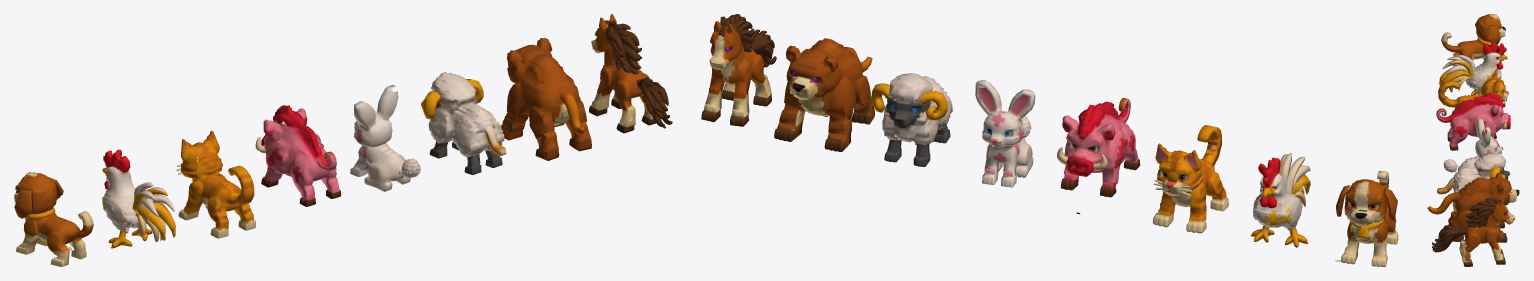
Rendered from CreatureModels.glb.
3 renders of one model, left to right at view 1: azimuth 30°, elevation 25°; view 2: azimuth 150°, elevation 25°; view 3: azimuth 270°, elevation 25°, orthographic. The views are drawn at different scales.
Visible parts, largest first — view 1: Bear__body, Sheep__body, Horse__body, Pig__body, Cat__body, Dog__body, Chicken__body, Bunny__body; view 2: Bear__body, Horse__body, Pig__body, Sheep__body, Cat__body, Bunny__body, Dog__body, Chicken__body; view 3: Horse__body, Pig__body, Bear__body, Chicken__body, Dog__body, Sheep__body, Cat__body, Bunny__body.
Boxes of the visible parts, x1,y1,x2,y2 form: Bear__body: [501, 38, 591, 160]; Sheep__body: [421, 72, 506, 174]; Horse__body: [589, 14, 672, 133]; Pig__body: [255, 105, 341, 206]; Cat__body: [176, 130, 255, 238]; Dog__body: [14, 172, 93, 266]; Chicken__body: [102, 149, 175, 248]; Bunny__body: [350, 85, 420, 191]; Bear__body: [774, 38, 874, 151]; Horse__body: [701, 14, 776, 126]; Pig__body: [1057, 98, 1140, 214]; Sheep__body: [871, 73, 952, 166]; Cat__body: [1152, 125, 1228, 233]; Bunny__body: [975, 80, 1035, 187]; Dog__body: [1335, 170, 1398, 266]; Chicken__body: [1250, 153, 1310, 247]; Horse__body: [1432, 195, 1514, 266]; Pig__body: [1436, 92, 1510, 150]; Bear__body: [1427, 173, 1519, 242]; Chicken__body: [1439, 41, 1507, 95]; Dog__body: [1441, 14, 1505, 60]; Sheep__body: [1437, 153, 1509, 194]; Cat__body: [1438, 68, 1508, 130]; Bunny__body: [1443, 118, 1503, 172].
Bounding box in the file's own units: 2.28 × 0.3184 × 0.4331.
1 material, 1 textured.
